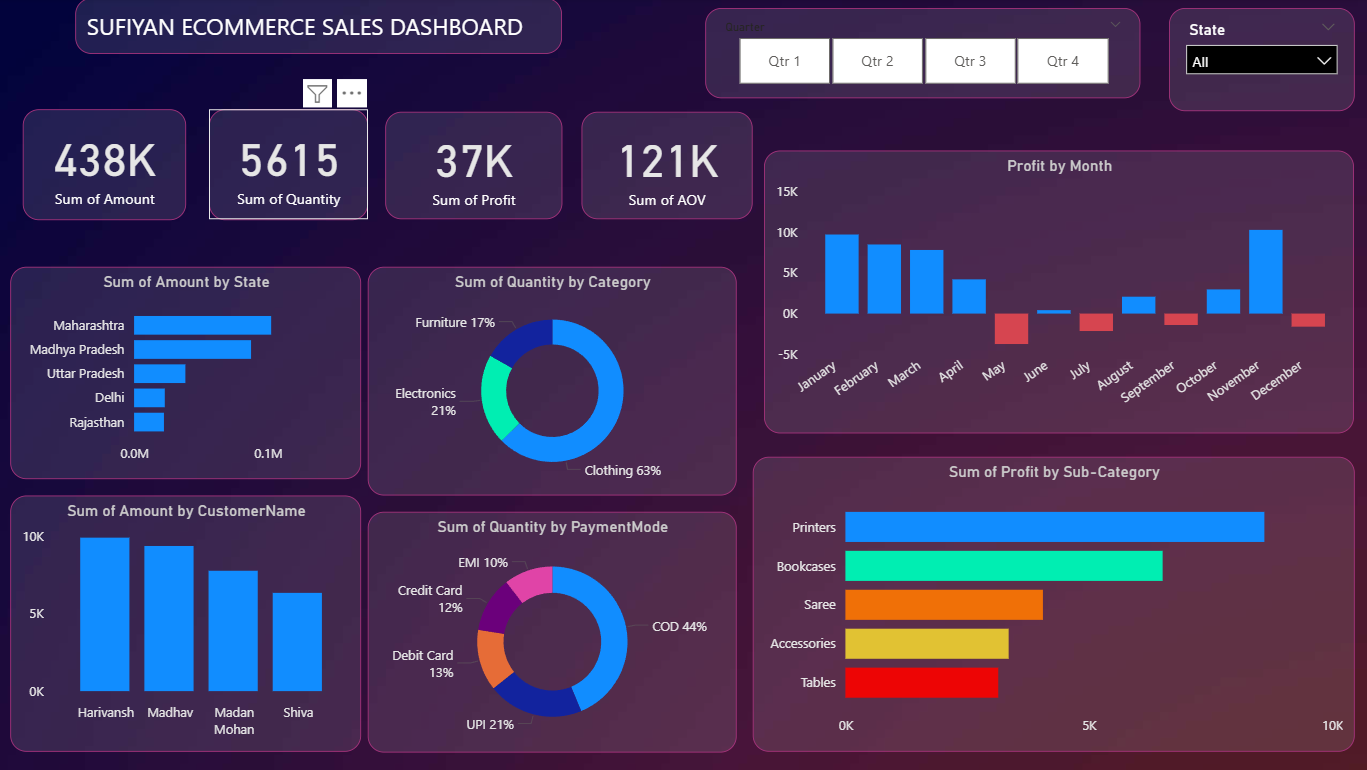

This screenshot's page, from the dashboard's own definition file:
{"tool":"powerbi","page":{"name":"Page 1","canvas":[1280,720],"ordinal":0},"visuals":[{"type":"textbox","box":[71.4,0,452.8,52.1],"z":0},{"type":"columnChart","title":"Profit by Month","fields":{"Y":["Sum(Details.Profit)"],"Category":["Orders.Order Date.Variation.Date Hierarchy.Month"]},"box":[712.2,141.3,548.9,263.5],"z":1000},{"type":"barChart","fields":{"Category":["Details.Sub-Category"],"Y":["Sum(Details.Profit)"]},"box":[701.2,426.8,559.9,274.4],"z":2000},{"type":"donutChart","fields":{"Category":["Details.Category"],"Y":["Sum(Details.Quantity)"]},"box":[343.1,249.7,343.1,212.7],"z":3000},{"type":"donutChart","fields":{"Y":["Sum(Details.Quantity)"],"Category":["Details.PaymentMode"]},"box":[343.1,477.5,343.1,223.7],"z":4000},{"type":"card","fields":{"Values":["Sum(Details.Amount)"]},"box":[22,102.9,152.3,102.9],"z":5000},{"type":"card","fields":{"Values":["Sum(Details.Quantity)"]},"box":[194.9,102.9,148.2,102.9],"z":6000},{"type":"card","fields":{"Values":["Sum(Details.Profit)"]},"box":[359.5,105.7,164.7,100.2],"z":7000},{"type":"card","fields":{"Values":["Sum(Details.AOV)"]},"box":[542,105.7,159.2,100.2],"z":8000},{"type":"barChart","fields":{"Category":["Orders.State"],"Y":["Sum(Details.Amount)"]},"box":[11,249.7,326.6,197.6],"z":9000},{"type":"columnChart","fields":{"Category":["Orders.CustomerName"],"Y":["Sum(Details.Amount)"]},"box":[11,462.4,326.6,238.8],"z":10000},{"type":"slicer","fields":{"Values":["Orders.Order Date.Variation.Date Hierarchy.Quarter"]},"box":[657.3,9.6,404.8,83.7],"z":11000},{"type":"slicer","fields":{"Values":["Orders.State"]},"box":[1088.2,9.6,172.9,96.1],"z":12000}]}

Visuals, with their boxes in screenshot pixels (x1, y1, x2, y2), scaled from the page's 1280x720 canvas onto the 1367x770 screenshot:
textbox: {"left": 76, "top": 0, "right": 560, "bottom": 56}
"Profit by Month" columnChart: {"left": 761, "top": 151, "right": 1347, "bottom": 433}
barChart - Details.Sub-Category x Sum(Details.Profit): {"left": 749, "top": 456, "right": 1347, "bottom": 750}
donutChart - Details.Category x Sum(Details.Quantity): {"left": 366, "top": 267, "right": 733, "bottom": 495}
donutChart - Sum(Details.Quantity) x Details.PaymentMode: {"left": 366, "top": 511, "right": 733, "bottom": 750}
card - Sum(Details.Amount): {"left": 23, "top": 110, "right": 186, "bottom": 220}
card - Sum(Details.Quantity): {"left": 208, "top": 110, "right": 366, "bottom": 220}
card - Sum(Details.Profit): {"left": 384, "top": 113, "right": 560, "bottom": 220}
card - Sum(Details.AOV): {"left": 579, "top": 113, "right": 749, "bottom": 220}
barChart - Orders.State x Sum(Details.Amount): {"left": 12, "top": 267, "right": 361, "bottom": 478}
columnChart - Orders.CustomerName x Sum(Details.Amount): {"left": 12, "top": 495, "right": 361, "bottom": 750}
slicer - Orders.Order Date.Variation.Date Hierarchy.Quarter: {"left": 702, "top": 10, "right": 1134, "bottom": 100}
slicer - Orders.State: {"left": 1162, "top": 10, "right": 1347, "bottom": 113}
